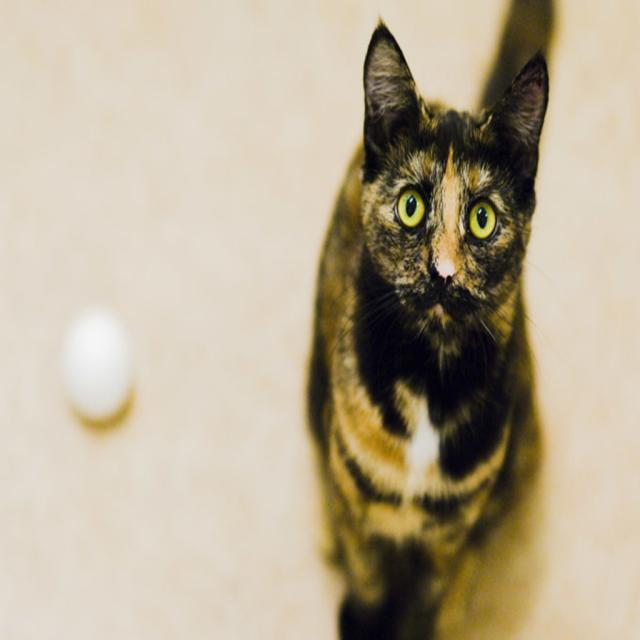Cat: (307, 0, 554, 637)
